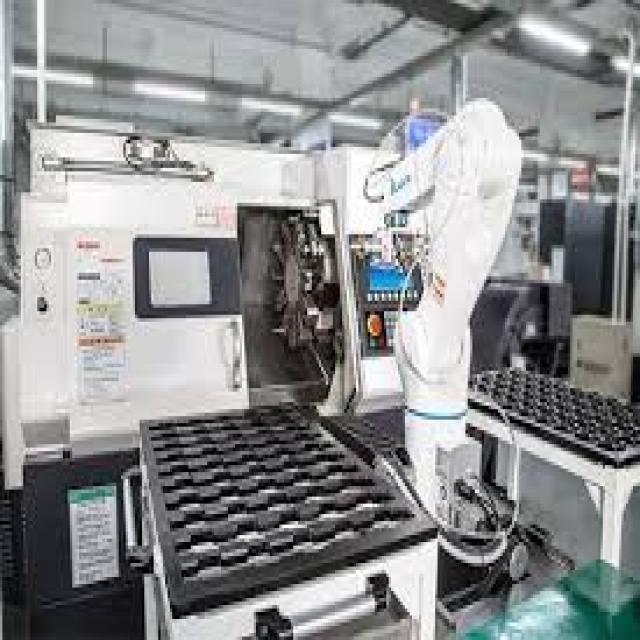Robotic-arm: (359, 97, 527, 502)
